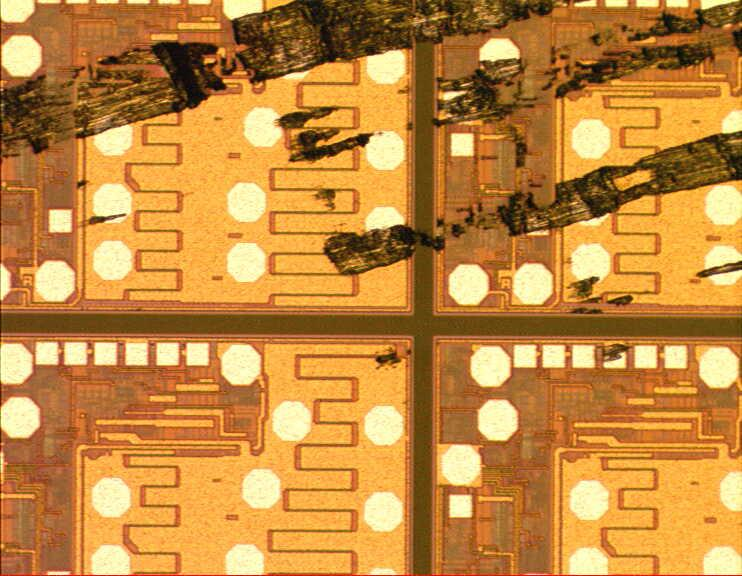SCRATCH: (1, 1, 742, 374)
